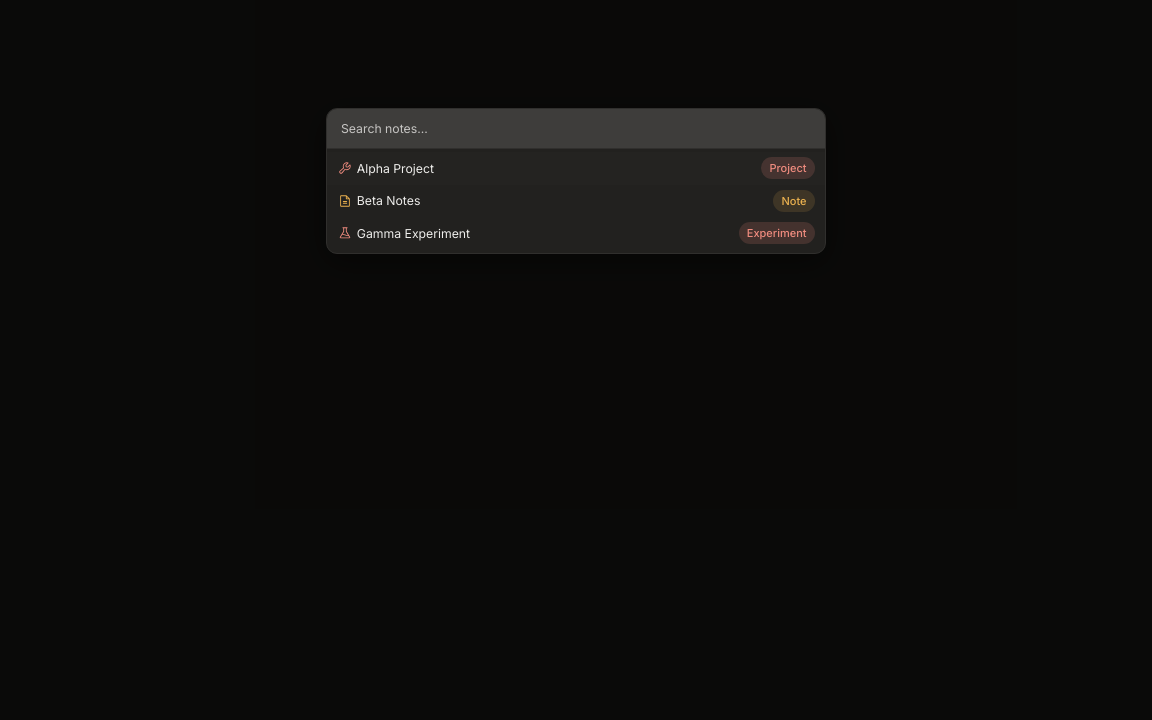
QuickOpenPalette › filters entries by fuzzy search
The image size is (1152, 720).
In the field with placeholder "Search notes...": (576, 129) x1=327 y1=109 x2=825 y2=148, type "alpha"
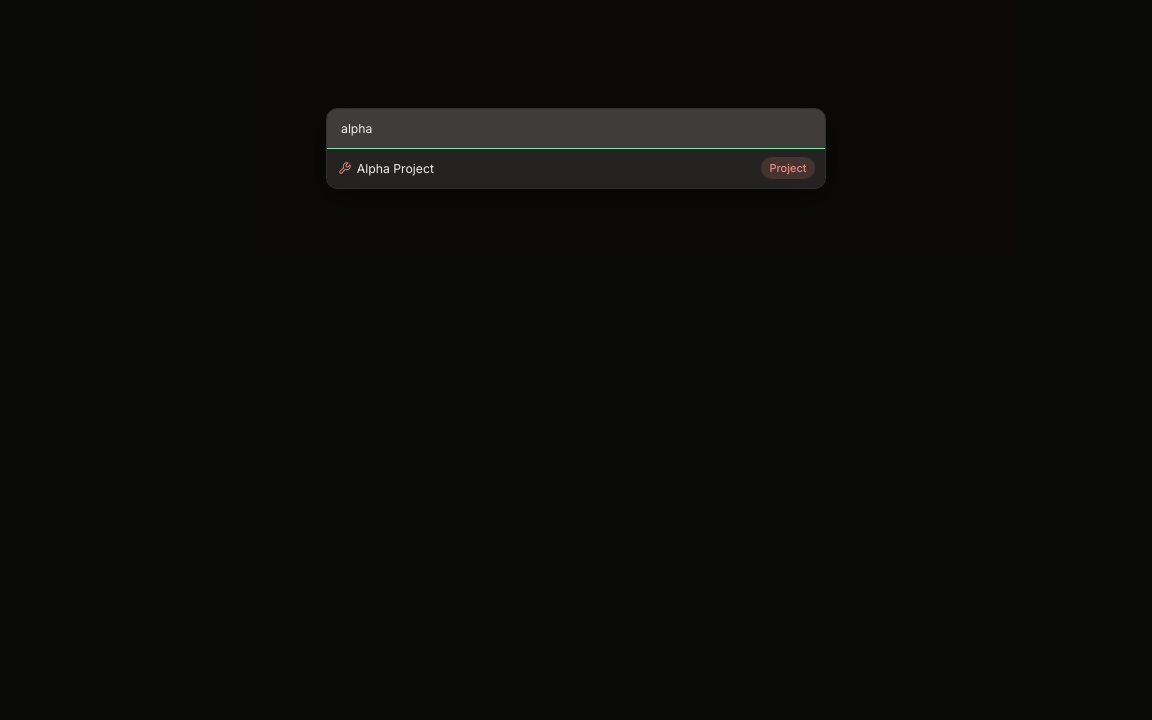
Expected: the text "Alpha Project" is shown, x1=357 y1=160 x2=434 y2=177
Result: the button "Beta Notes" is gone
